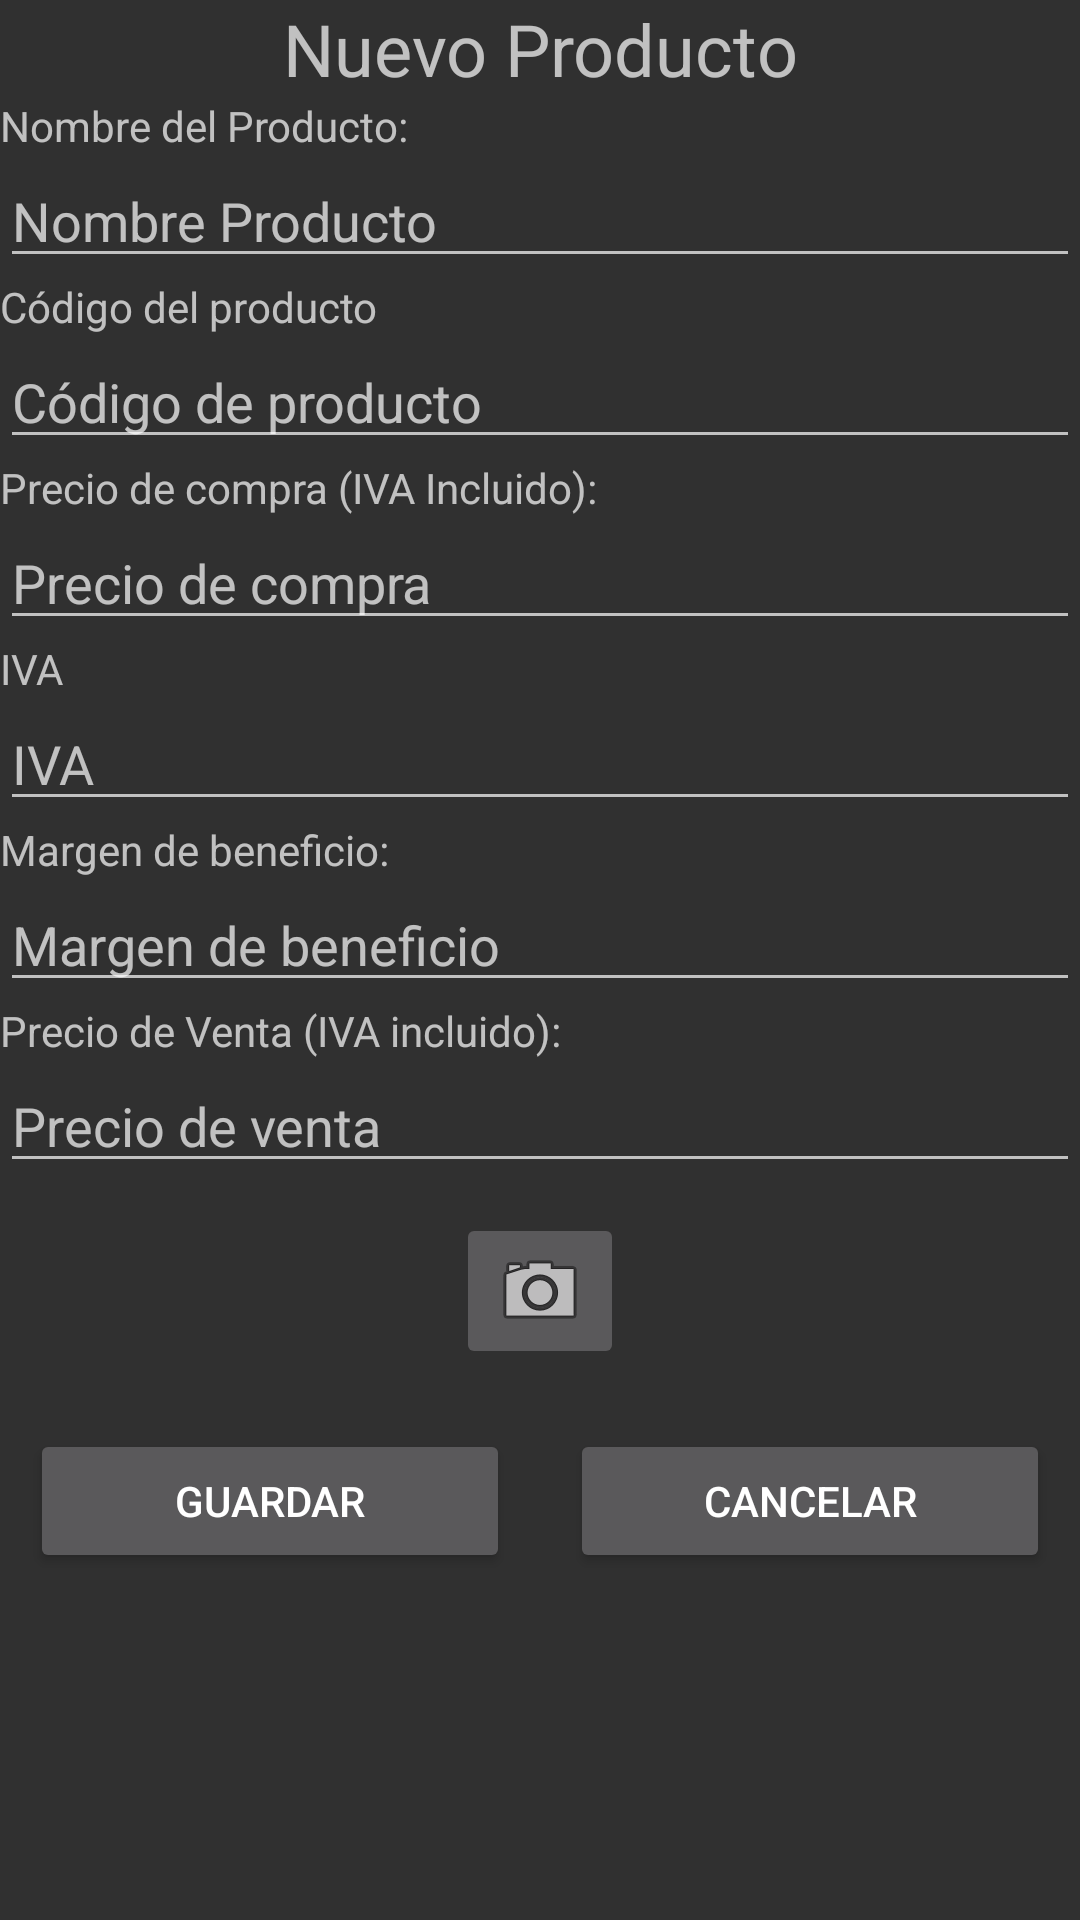

Where to tap for icons on this 1080 × 1920 app screen, as (x,y):
camera: (540,1291)
